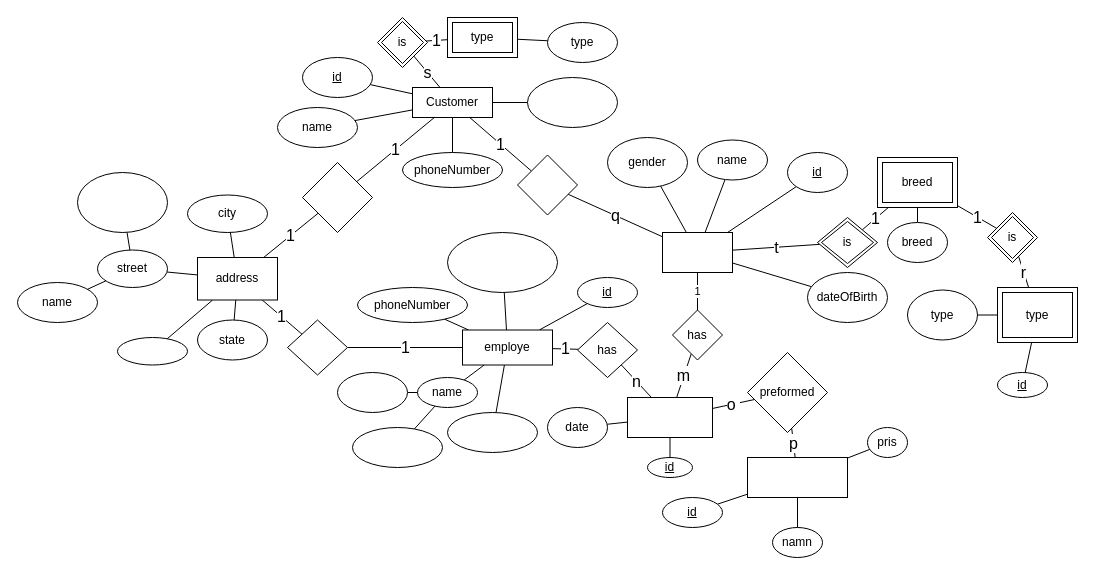
Image size: 1095x575. Some labels were removed from this diagram. Here are the shapes that lost their labels. From the top down, the centre of each, then its label:
pixel 572 102: faxNumber
pixel 122 202: streetNumber
pixel 337 197: located
pixel 547 184: owns
pixel 502 262: educationalDegree
pixel 697 252: pet
pixel 152 350: zip
pixel 317 347: lives
pixel 372 392: firstName
pixel 492 432: hireDate
pixel 669 417: visit
pixel 397 447: lastName
pixel 797 477: treatment
